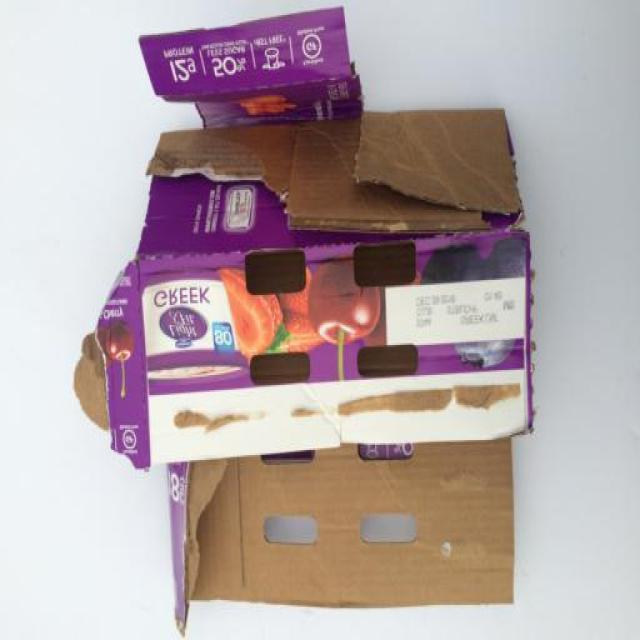cardboard: (74, 3, 535, 632)
